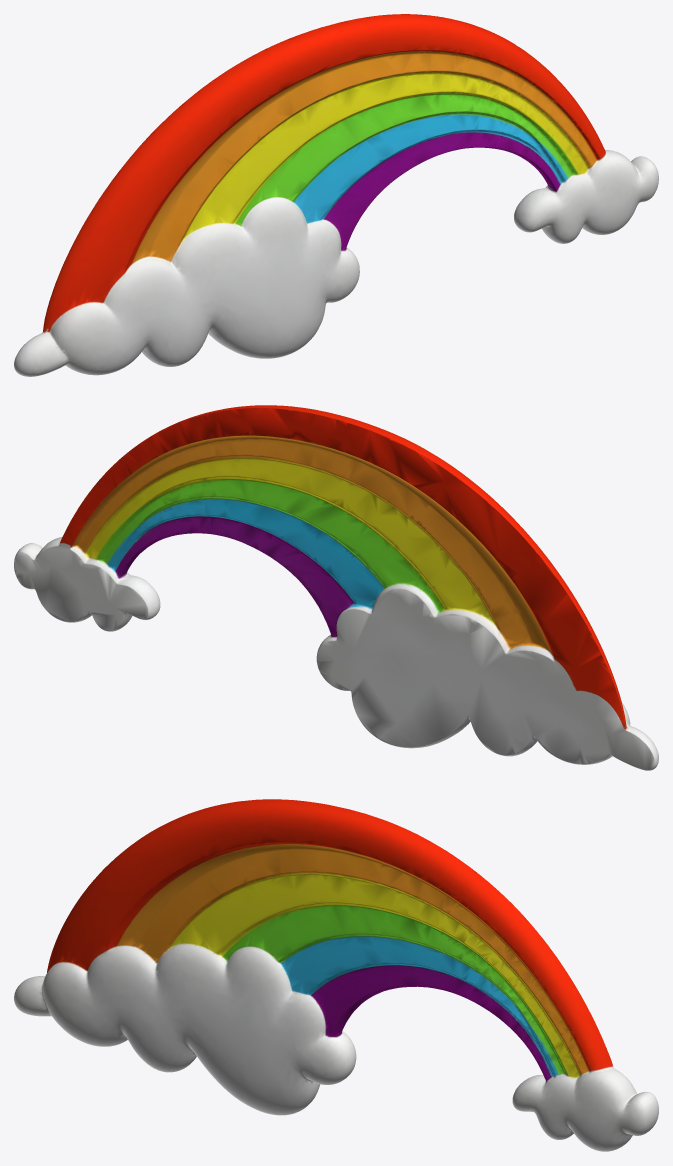
The model's file is Arcobaleno.glb.
3 views of the same model, one above another, from view 1: azimuth 30°, elevation 25°; view 2: azimuth 150°, elevation 25°; view 3: azimuth 330°, elevation 25° (orthographic).
Bounding box in the file's own units: 1.9 × 0.8907 × 0.1027.
1 material, 1 textured.
